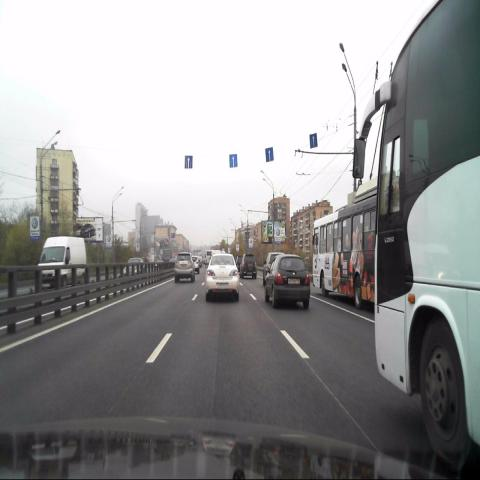5_15_2: (264, 146, 274, 162), (310, 133, 317, 149), (184, 155, 192, 168), (230, 154, 236, 167)
